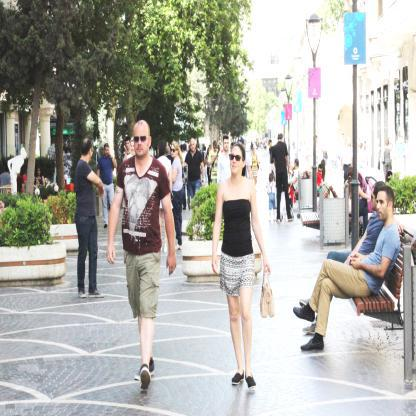person: (297, 187, 398, 354), (116, 119, 168, 390), (217, 142, 261, 390), (74, 136, 102, 299), (274, 132, 292, 224), (170, 138, 184, 248), (99, 142, 116, 230), (186, 137, 205, 193), (216, 134, 233, 181), (266, 171, 278, 226)
